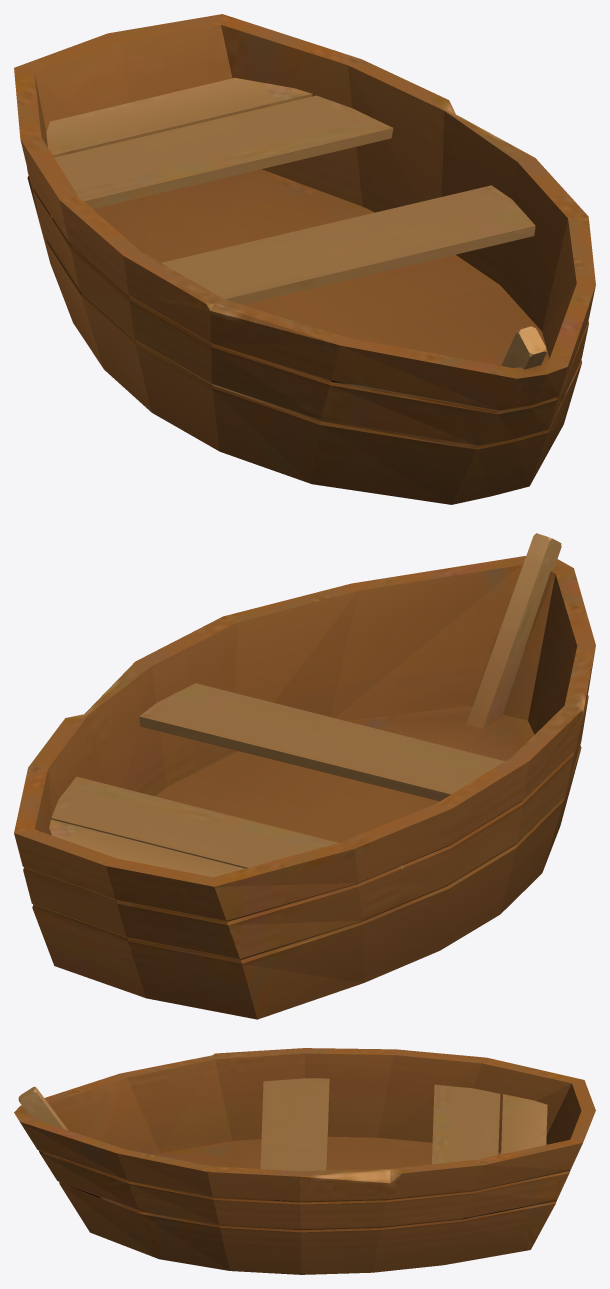
File: rowboat.glb
3 renders of one model, top to bottom at view 1: azimuth 30°, elevation 25°; view 2: azimuth 150°, elevation 25°; view 3: azimuth 270°, elevation 25°, orthographic. The views are drawn at different scales.
Parts seen in each view (by area): view 1: rowboat; view 2: rowboat; view 3: rowboat.
Boxes of the visible parts, x1,y1,x2,y2 form: rowboat: (14,14,595,504); rowboat: (14,533,595,1019); rowboat: (14,1048,595,1274).
Bounding box in the file's own units: 2.31 × 1.09 × 4.4.
Materials: 1 (1 with a texture image).
